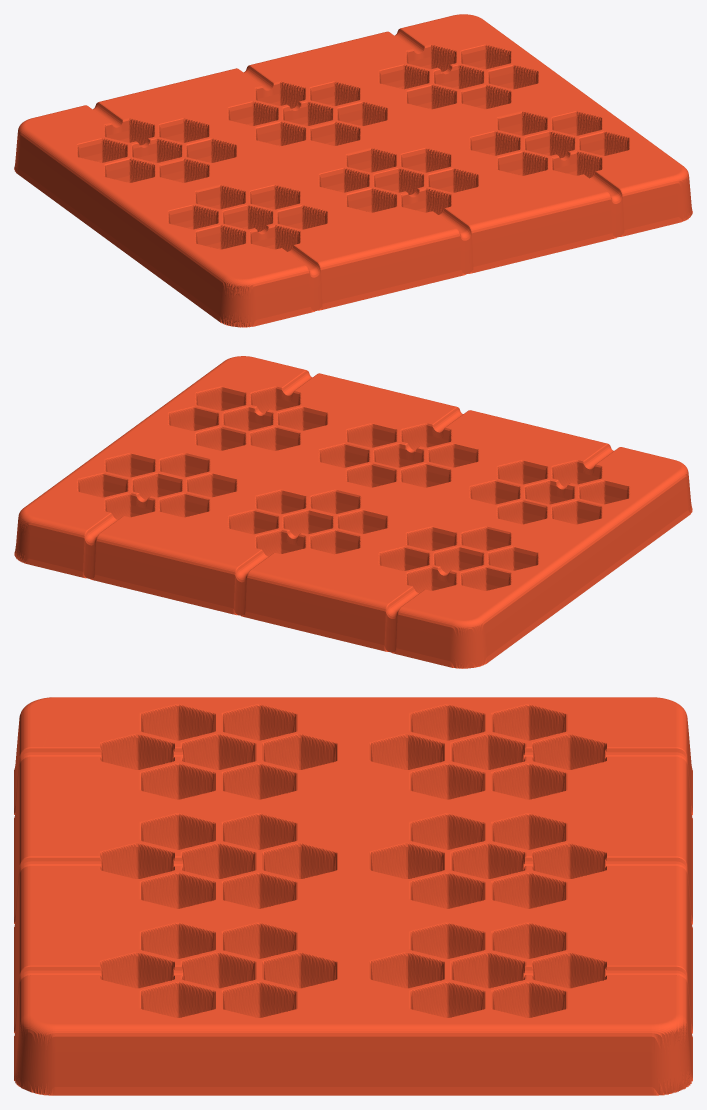
Rendered from mold.glb.
The picture shows the model from 3 angles, top to bottom: view 1: azimuth 30°, elevation 25°; view 2: azimuth 150°, elevation 25°; view 3: azimuth 270°, elevation 25°; orthographic projection. The views are drawn at different scales.
Visible parts, largest first — view 1: geometry_0; view 2: geometry_0; view 3: geometry_0.
Part boxes in pixels (x1,y1,x2,y2): geometry_0: (14,14,692,327); geometry_0: (14,356,692,668); geometry_0: (14,697,692,1095).
Bounding box in the file's own units: 0.175 × 0.0155 × 0.1477.
